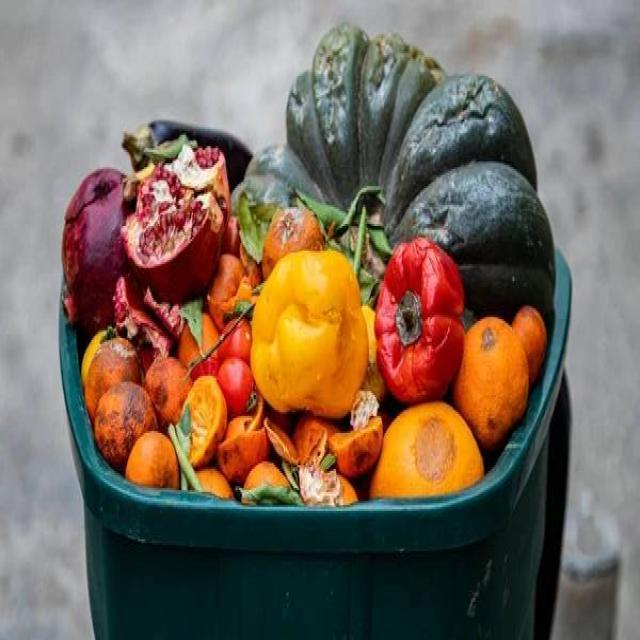Garbage: (65, 24, 555, 506)
